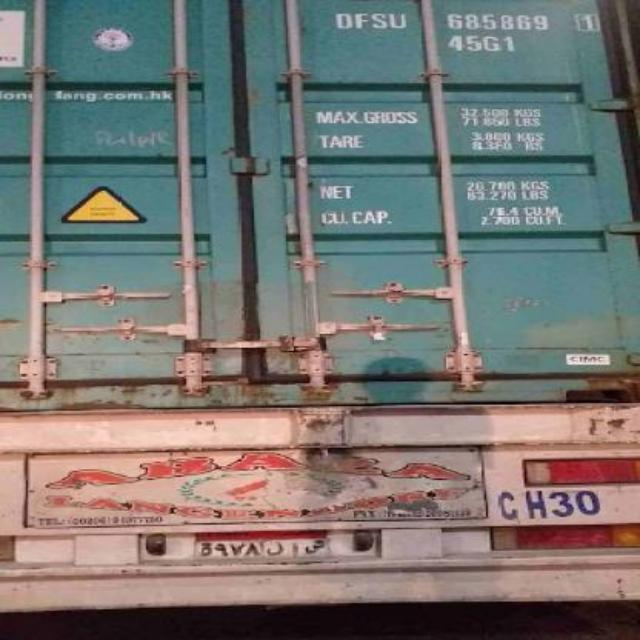1: (574, 9, 600, 35)
5: (480, 12, 498, 30)
6: (516, 8, 532, 36), (444, 11, 464, 31)
8: (494, 11, 516, 34), (466, 8, 482, 30)
9: (532, 10, 552, 38)
D: (334, 9, 354, 33)
F: (354, 8, 370, 36)
S: (371, 6, 392, 38)
U: (388, 8, 408, 34)
